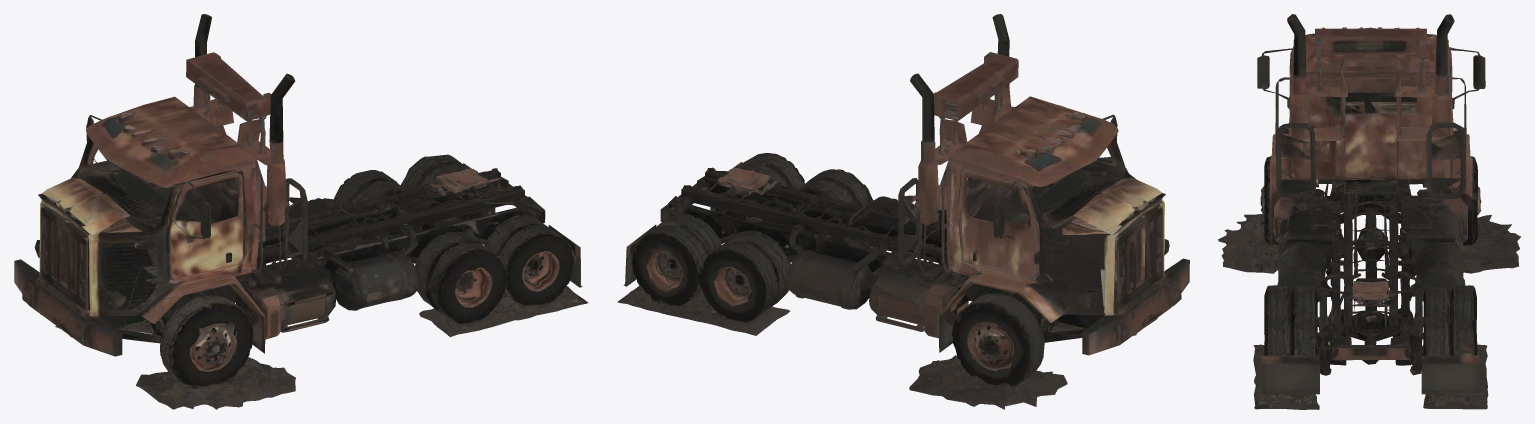
File: ash-wreck-lod.glb
The picture shows the model from 3 angles, left to right: view 1: azimuth 30°, elevation 25°; view 2: azimuth 150°, elevation 25°; view 3: azimuth 270°, elevation 25°; orthographic projection. The views are drawn at different scales.
Visible parts, largest first — view 1: ash-wreck-Mesh_0.014; view 2: ash-wreck-Mesh_0.014; view 3: ash-wreck-Mesh_0.014.
Part boxes in pixels (x1,y1,x2,y2): ash-wreck-Mesh_0.014: [14, 14, 588, 409]; ash-wreck-Mesh_0.014: [617, 14, 1189, 409]; ash-wreck-Mesh_0.014: [1218, 14, 1520, 409].
Bounding box in the file's own units: 5 × 2.83 × 2.92.
1 material, 1 textured.
